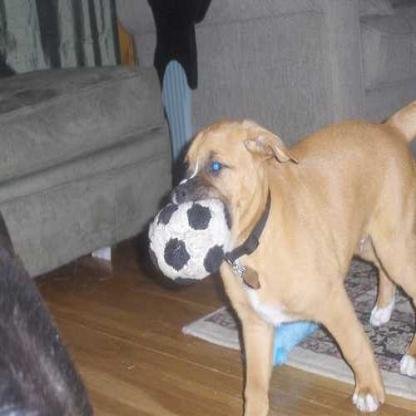ball: (150, 199, 230, 284)
